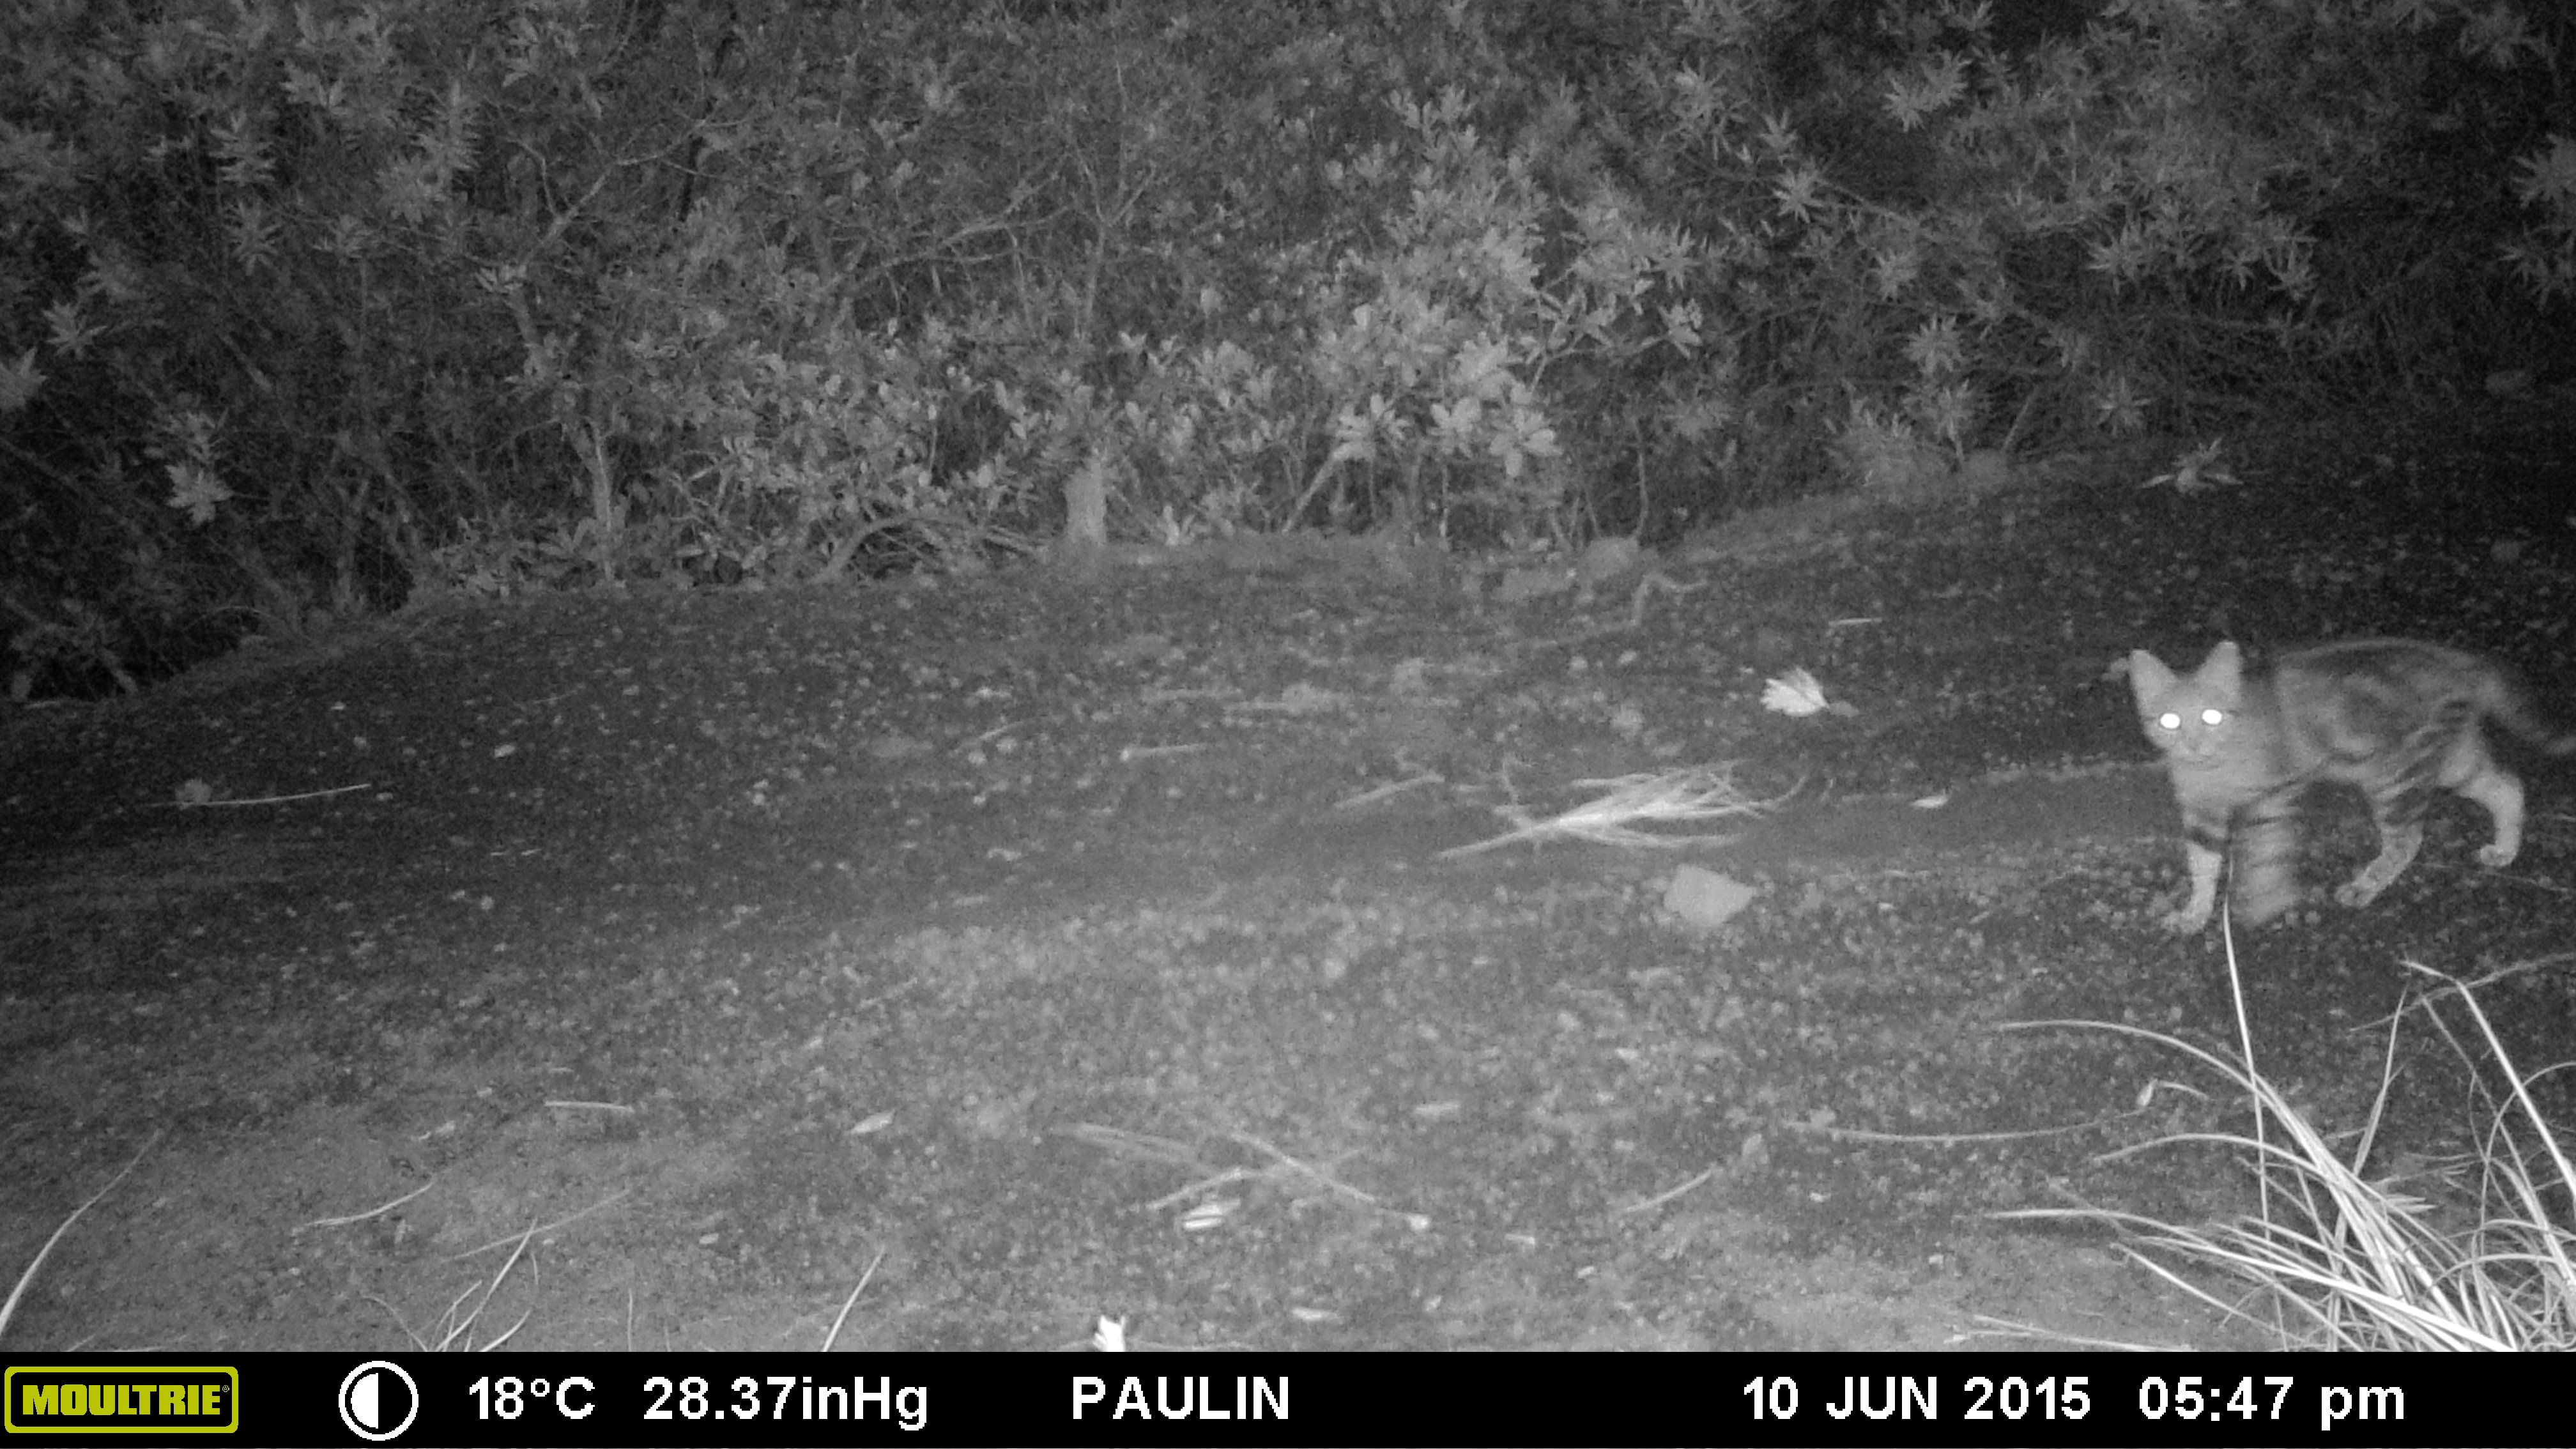cat: (2118, 623, 2571, 939)
